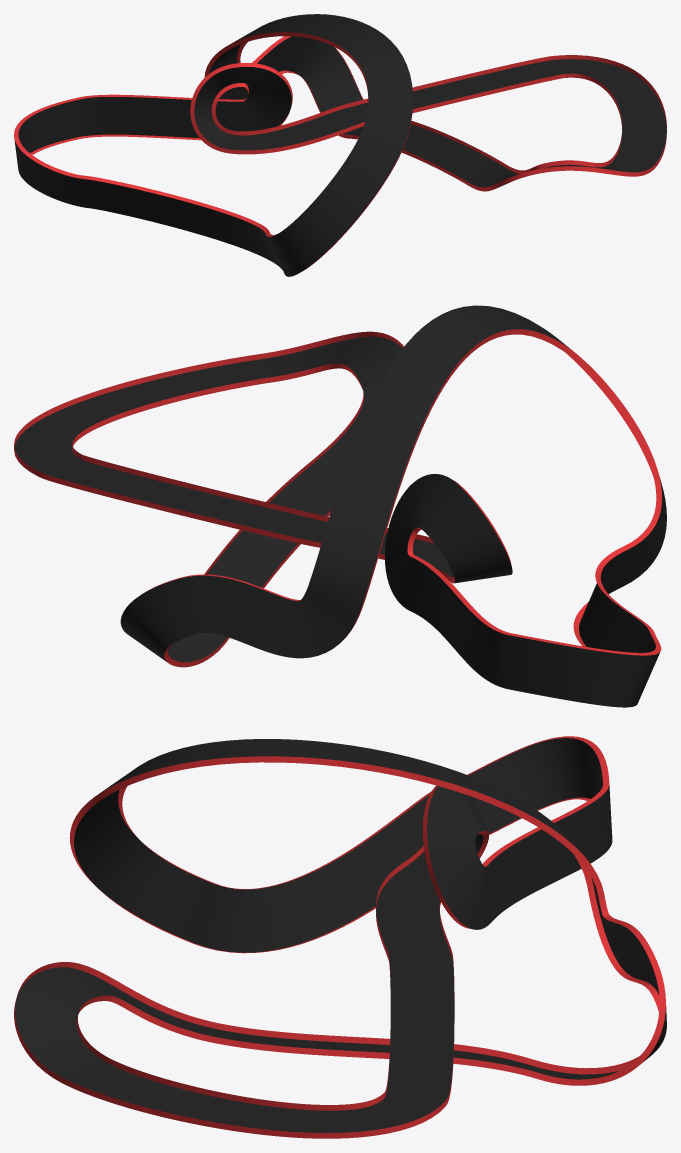
File: loopyTrack.fbx
3 renders of one model, top to bottom at view 1: azimuth 30°, elevation 25°; view 2: azimuth 150°, elevation 25°; view 3: azimuth 270°, elevation 25°, orthographic. The views are drawn at different scales.
Parts seen in each view (by area): view 1: track2; view 2: track2; view 3: track2.
Part boxes in pixels (x1=…): track2: x1=14, y1=14, x2=666, y2=276; track2: x1=14, y1=305, x2=666, y2=707; track2: x1=14, y1=736, x2=666, y2=1138.
Size of the model in its own units: 42.43 by 30.69 by 14.41.
